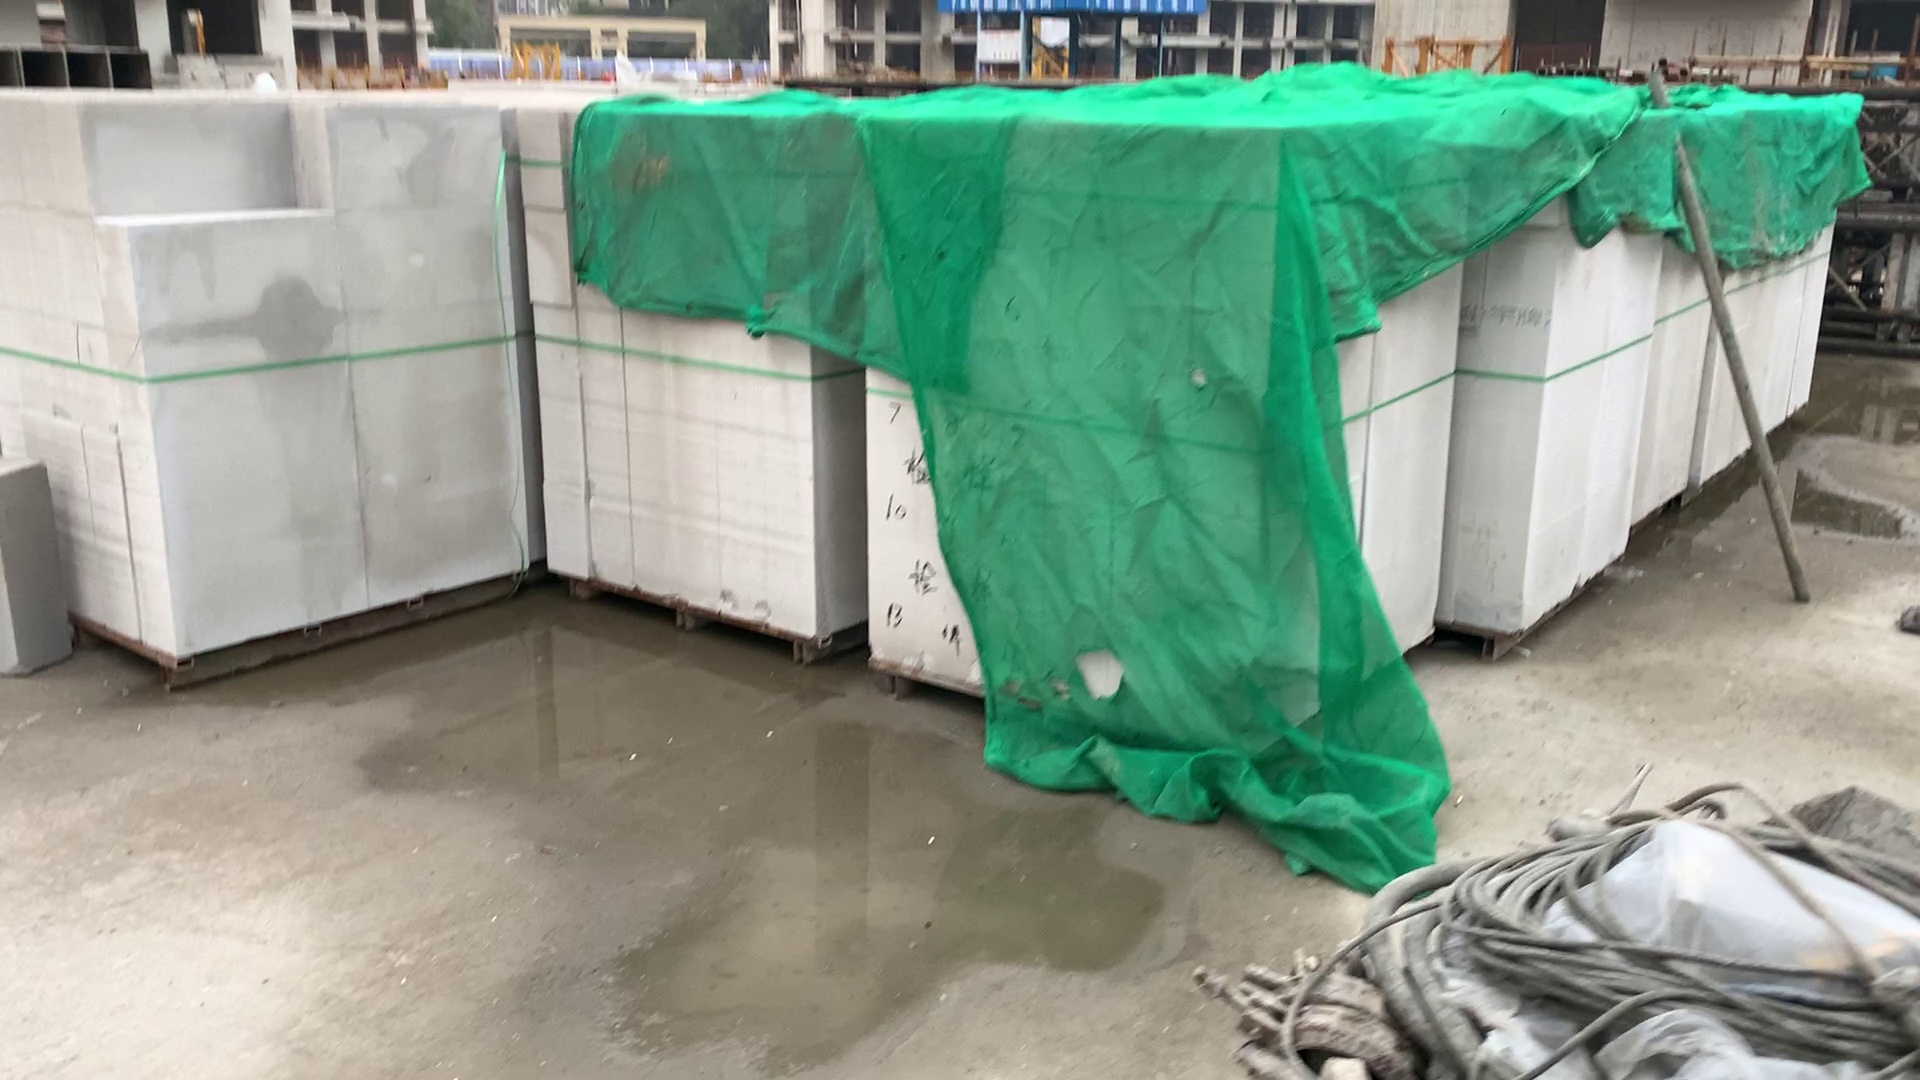brickwork: (4, 96, 520, 646), (860, 123, 1279, 737), (518, 105, 843, 645), (1457, 125, 1539, 647), (1716, 129, 1820, 454), (1631, 133, 1712, 520)
